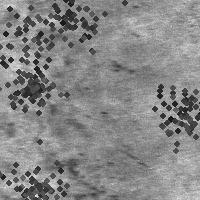rolled-in_scale: (1, 101, 129, 198), (0, 0, 76, 103), (14, 0, 124, 66), (31, 27, 129, 87), (137, 66, 200, 156), (0, 148, 78, 200), (0, 58, 60, 118)
